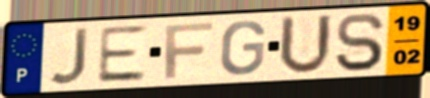E: (94, 23, 148, 85)
F: (162, 21, 215, 81)
G: (217, 18, 268, 77)
J: (46, 26, 91, 87)
S: (332, 11, 387, 73)
U: (276, 13, 335, 77)
